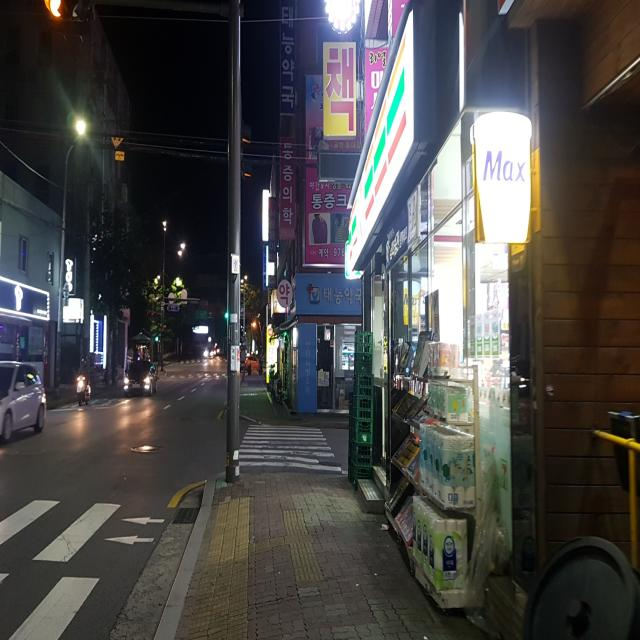횡단보도: (0, 496, 175, 640), (239, 424, 342, 472)
